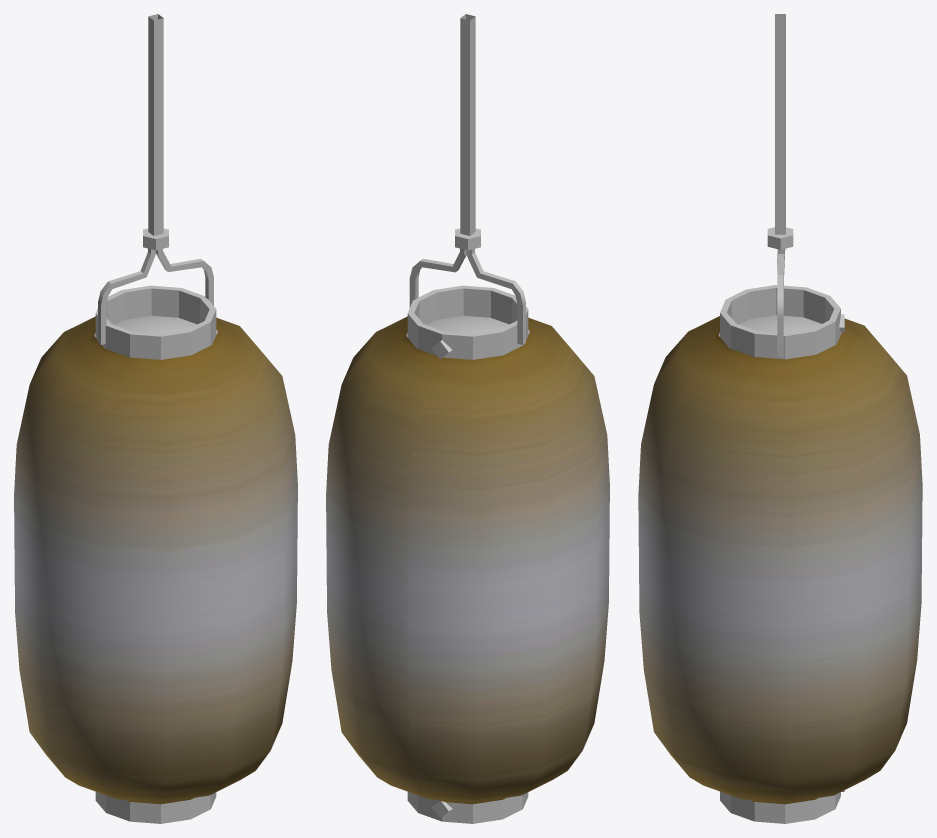
Rendered from LeftLighter.fbx.
3 renders of one model, left to right at view 1: azimuth 30°, elevation 25°; view 2: azimuth 150°, elevation 25°; view 3: azimuth 270°, elevation 25°, orthographic.
Parts seen in each view (by area): view 1: LightLeft_glow, LightLeft; view 2: LightLeft_glow, LightLeft; view 3: LightLeft_glow, LightLeft.
Part boxes in pixels (x1=…): LightLeft_glow: x1=14, y1=316, x2=297, y2=804; LightLeft: x1=94, y1=14, x2=217, y2=823; LightLeft_glow: x1=326, y1=316, x2=609, y2=804; LightLeft: x1=406, y1=14, x2=529, y2=823; LightLeft_glow: x1=638, y1=316, x2=922, y2=804; LightLeft: x1=718, y1=14, x2=844, y2=823.
Bounding box in the file's own units: 5.05 × 15.34 × 5.05.
